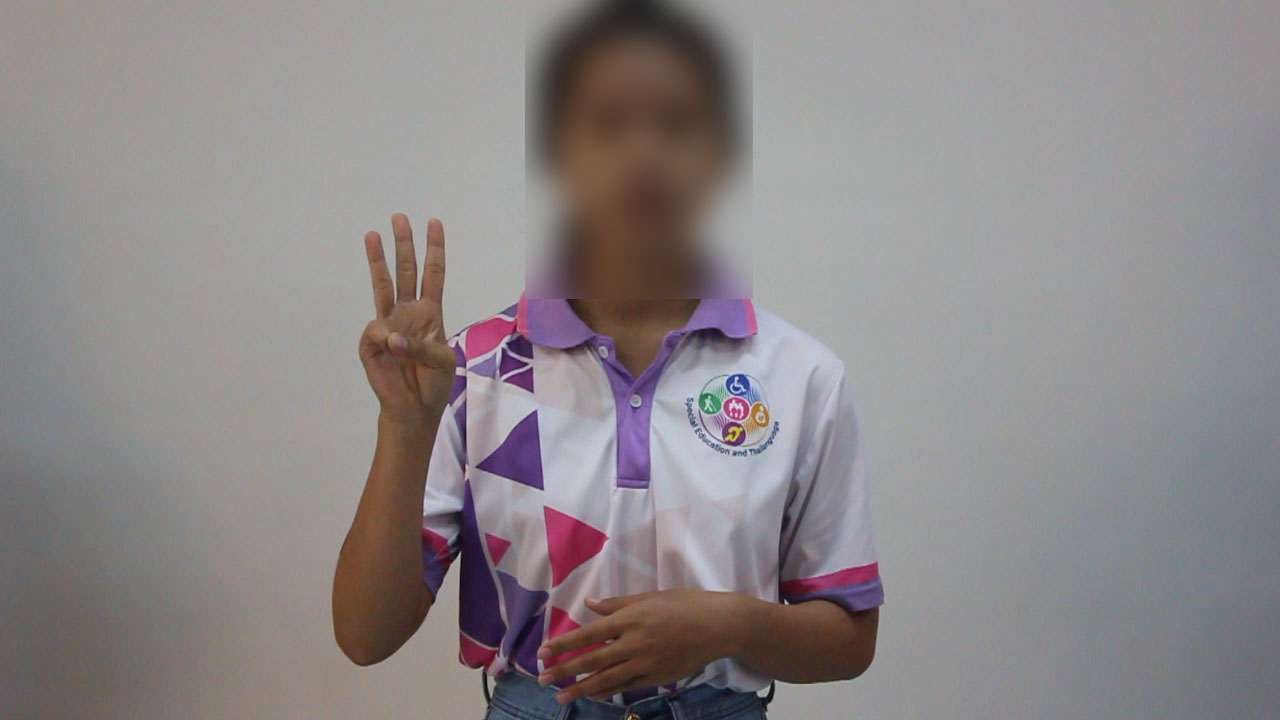wor: (351, 204, 470, 429)
